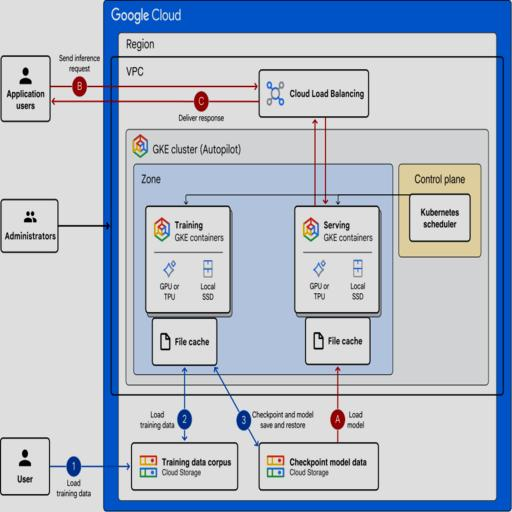actor: (0, 51, 51, 123), (0, 198, 54, 254), (0, 438, 51, 494)
compute: (292, 204, 379, 312), (144, 204, 230, 312), (409, 192, 470, 238)
data_flow: (210, 368, 261, 440), (51, 82, 256, 92), (51, 98, 256, 108), (184, 192, 410, 197), (51, 461, 128, 471), (54, 220, 105, 230), (312, 123, 318, 205), (322, 123, 328, 205), (182, 368, 187, 440), (333, 368, 338, 440), (182, 197, 187, 207), (333, 197, 338, 207)
database_storage: (256, 440, 379, 492), (130, 440, 238, 492), (151, 320, 218, 366), (302, 320, 369, 366)
network_security: (257, 66, 370, 118)
trust_boundary: (102, 0, 512, 512), (118, 30, 496, 502), (122, 56, 492, 394), (128, 128, 486, 384), (132, 162, 393, 376), (398, 164, 480, 256)
